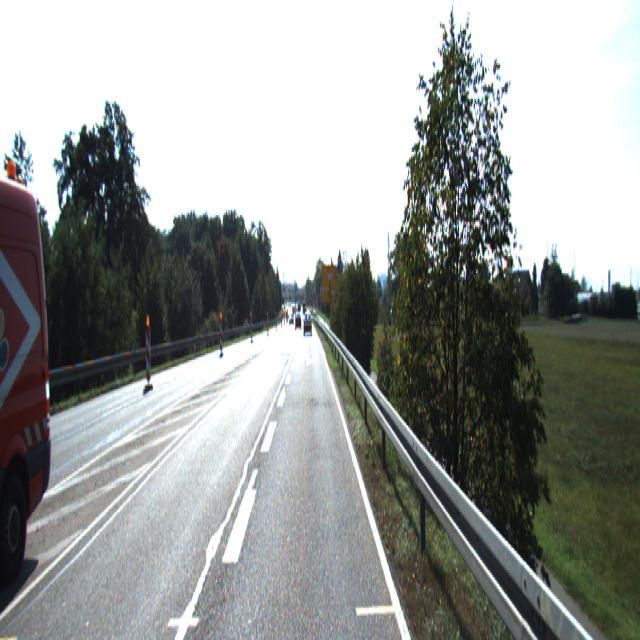Car: (0, 148, 61, 600), (304, 312, 312, 334)
